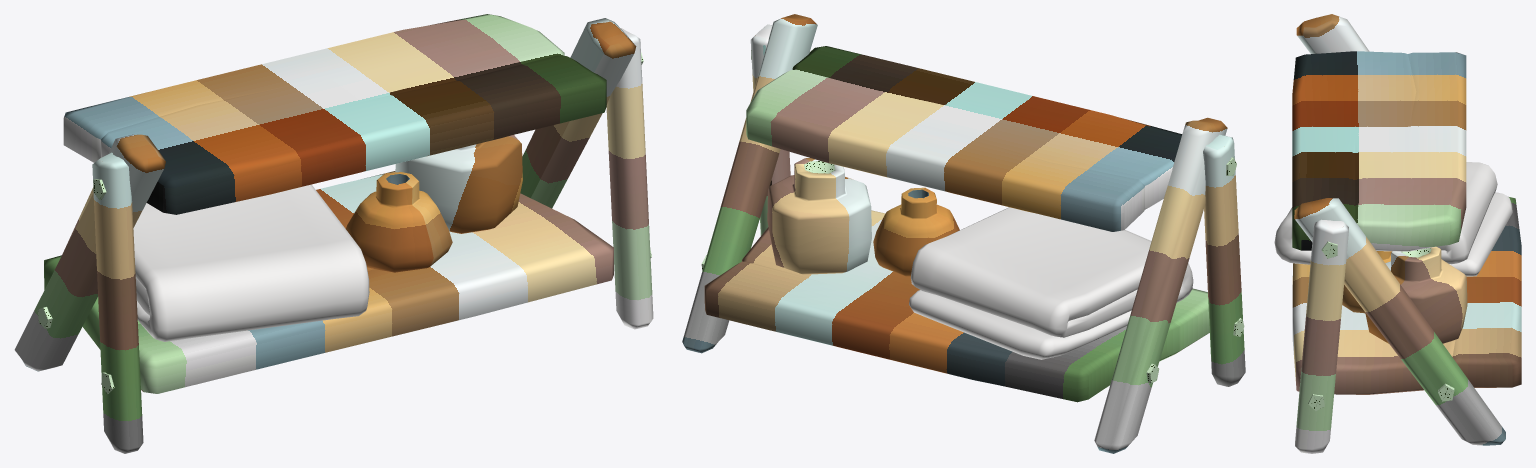
File: P_AP22StepStool.glb
The picture shows the model from 3 angles, left to right: view 1: azimuth 30°, elevation 25°; view 2: azimuth 150°, elevation 25°; view 3: azimuth 270°, elevation 25°; orthographic projection. The views are drawn at different scales.
Visible parts, largest first — view 1: P_AP22StepStool; view 2: P_AP22StepStool; view 3: P_AP22StepStool.
Boxes of the visible parts, x1=… form: P_AP22StepStool: x1=14, y1=14, x2=653, y2=453; P_AP22StepStool: x1=682, y1=14, x2=1245, y2=453; P_AP22StepStool: x1=1274, y1=14, x2=1521, y2=453.
Bounding box in the file's own units: 1.04 × 0.5468 × 0.509.
Materials: 1 (1 with a texture image).
